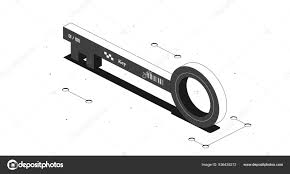key: (60, 18, 231, 136)
